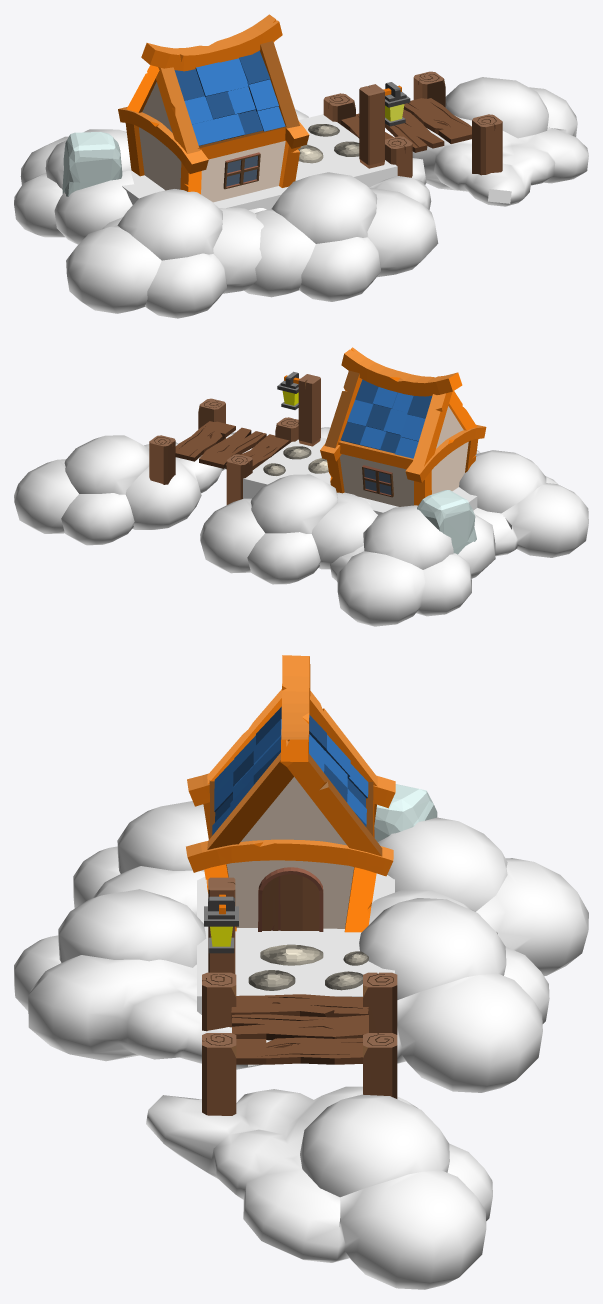
File: CloudHouse.fbx
3 views of the same model, one above another, from view 1: azimuth 30°, elevation 25°; view 2: azimuth 150°, elevation 25°; view 3: azimuth 270°, elevation 25° (orthographic). The views are drawn at different scales.
Visible parts, largest first — view 1: PAREDES; view 2: PAREDES; view 3: PAREDES.
Boxes of the visible parts, x1,y1,x2,y2 form: PAREDES: (14, 14, 588, 318); PAREDES: (14, 347, 588, 626); PAREDES: (14, 655, 588, 1289).
Bounding box in the file's own units: 1457 × 913 × 600.
1 material, 1 textured.
